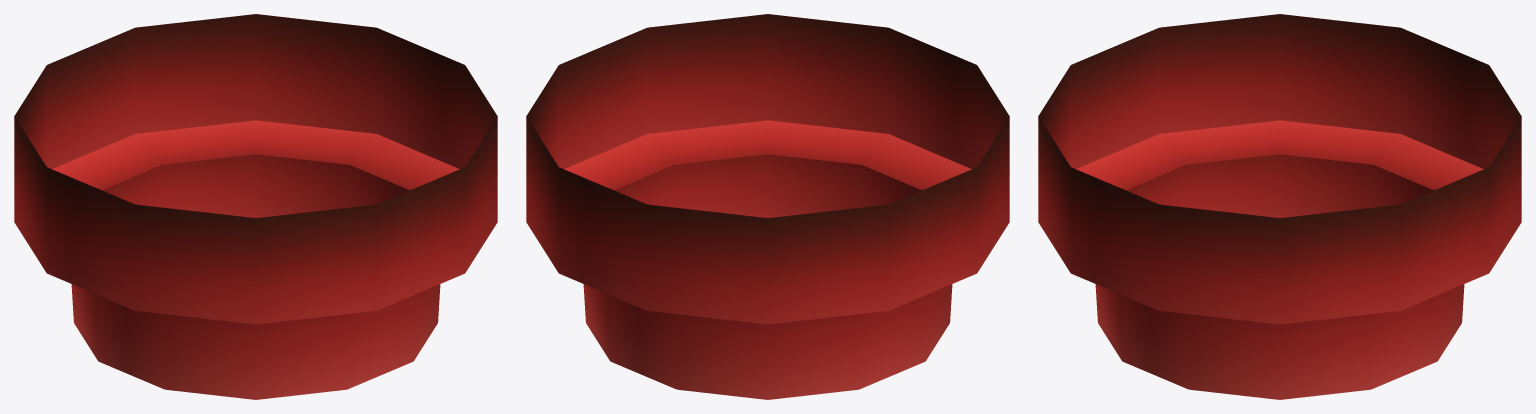
The model's file is Sprinkler.fbx.
The picture shows the model from 3 angles, left to right: view 1: azimuth 30°, elevation 25°; view 2: azimuth 150°, elevation 25°; view 3: azimuth 270°, elevation 25°; orthographic projection.
Parts seen in each view (by area): view 1: Sprinkler; view 2: Sprinkler; view 3: Sprinkler.
Part boxes in pixels (box(x1,y1,x2,y2)): Sprinkler: box(14, 14, 497, 399); Sprinkler: box(526, 14, 1009, 399); Sprinkler: box(1038, 14, 1521, 399).
Bounding box in the file's own units: 8.97 × 4.87 × 8.97.
